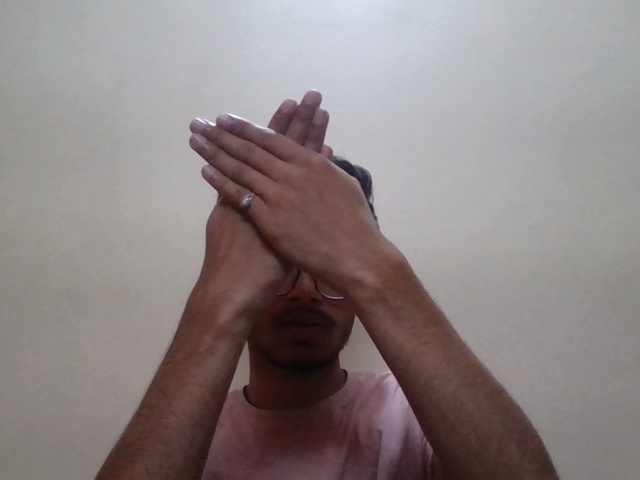what: (161, 79, 382, 302)
